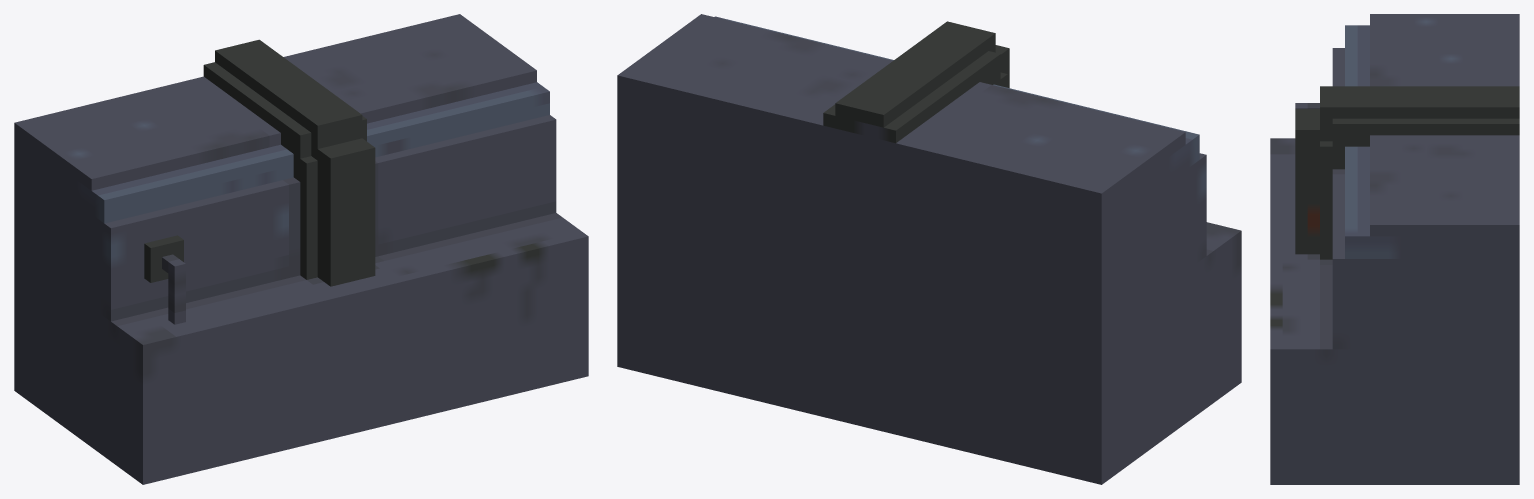
The model's file is BuildingBlock.fbx.
3 views of the same model, side by side, from view 1: azimuth 30°, elevation 25°; view 2: azimuth 150°, elevation 25°; view 3: azimuth 270°, elevation 25° (orthographic). The views are drawn at different scales.
Parts seen in each view (by area): view 1: BuildingBlock; view 2: BuildingBlock; view 3: BuildingBlock.
Boxes of the visible parts, bbox=[...] form: BuildingBlock: bbox=[14, 14, 588, 484]; BuildingBlock: bbox=[617, 14, 1241, 484]; BuildingBlock: bbox=[1270, 14, 1519, 484].
Bounding box in the file's own units: 400 × 250 × 200.
1 material, 1 textured.
